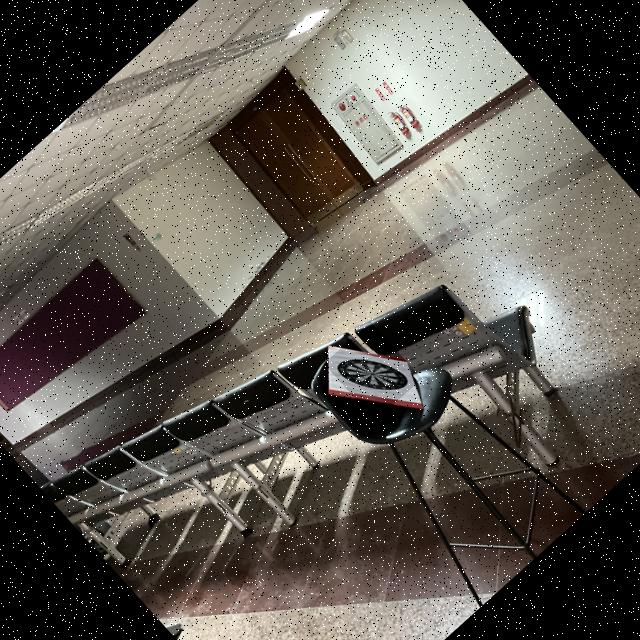archery-targets: (324, 320, 422, 420)
